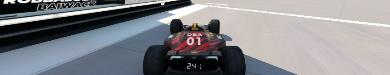Car: (142, 18, 246, 74)
Solid White and black: (201, 1, 389, 34)
obstacles-Borders: (0, 0, 193, 51)
